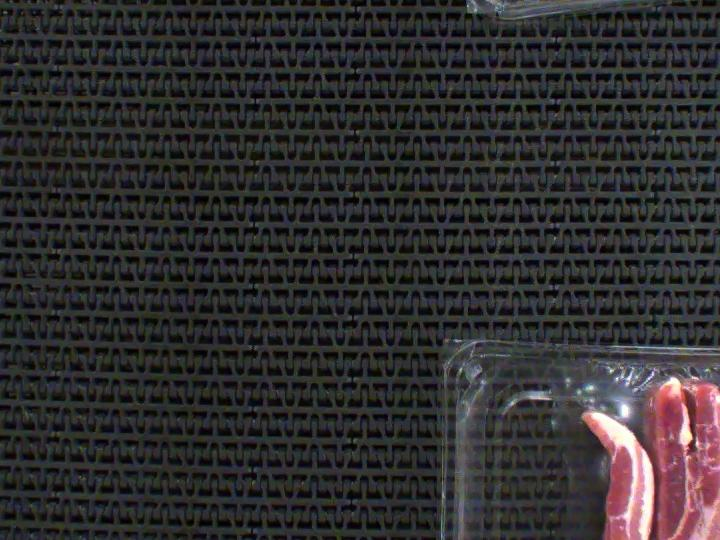unsealed: (557, 355, 720, 540)
